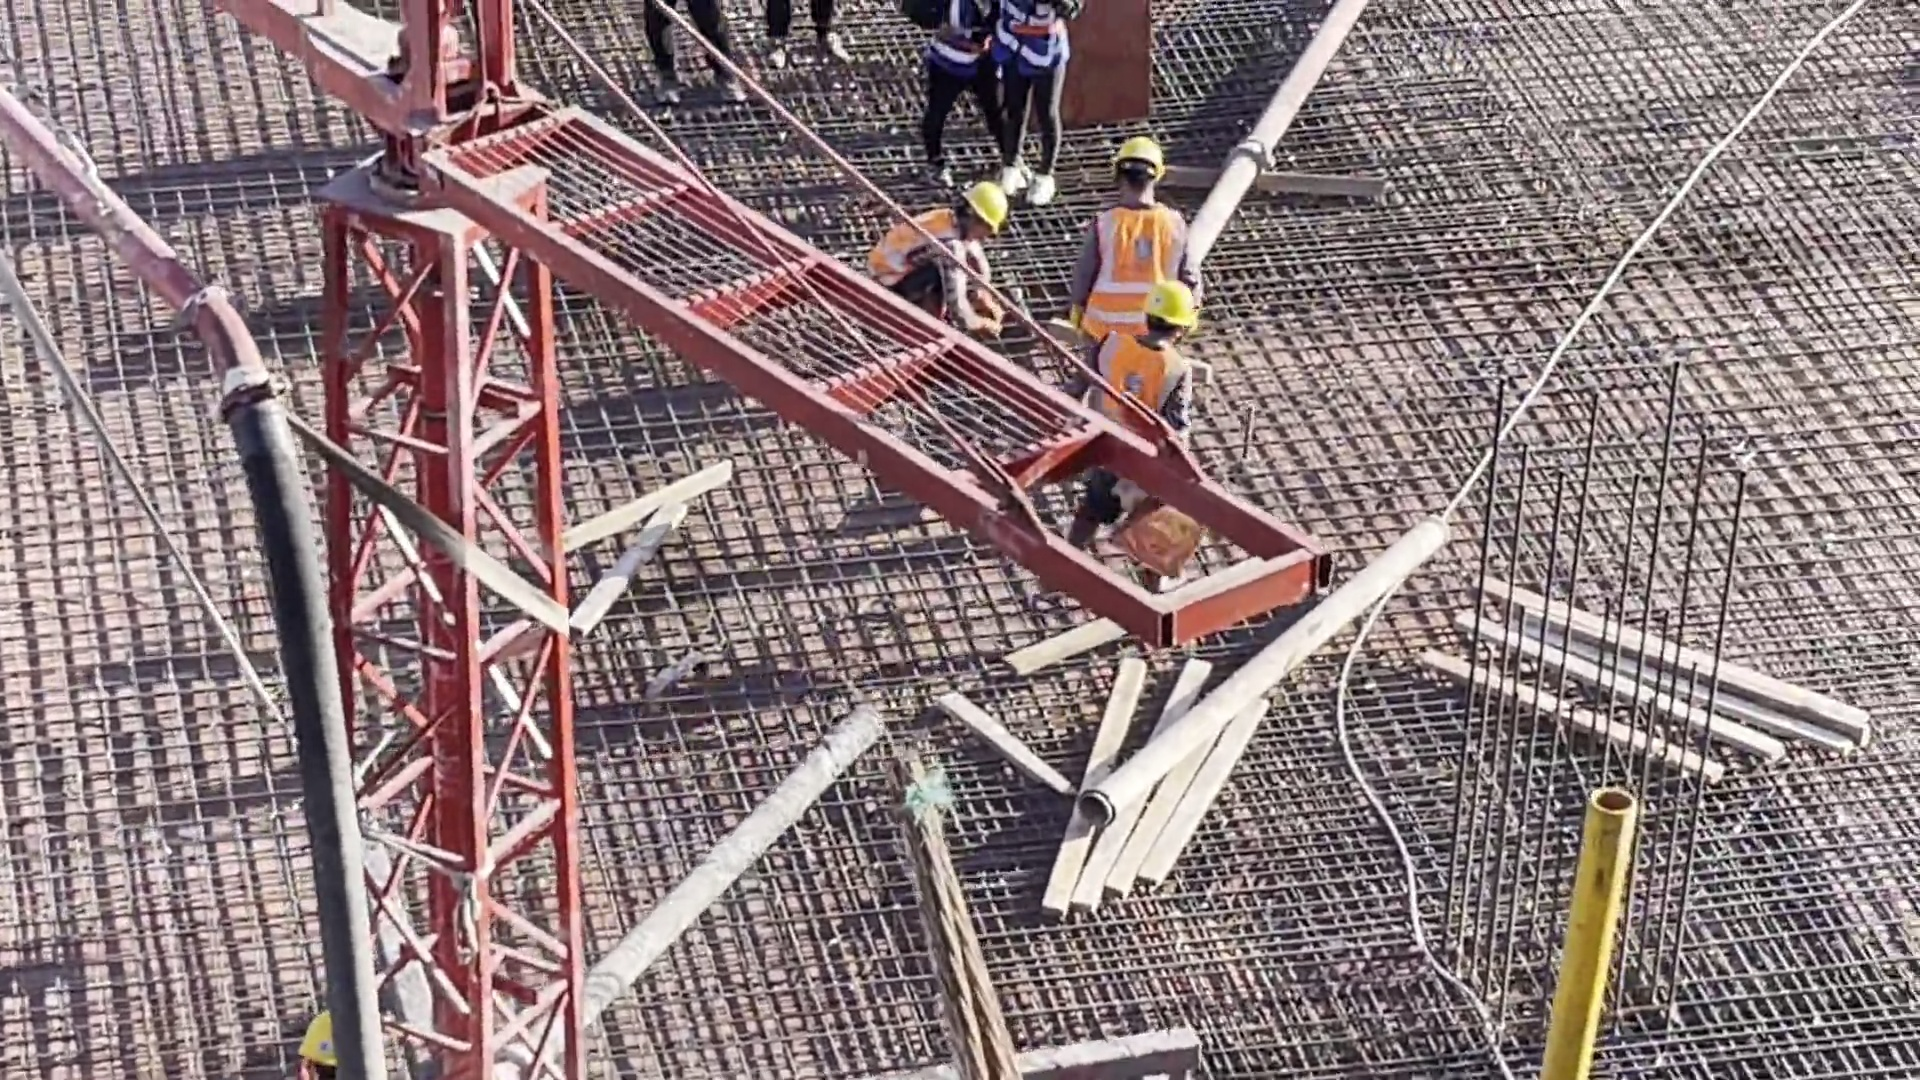helmet: (1151, 284, 1200, 348), (967, 183, 1011, 235), (292, 1019, 340, 1065), (1121, 137, 1169, 180)
person: (1066, 279, 1208, 558), (1056, 145, 1192, 387), (849, 171, 1021, 349), (901, 1, 1000, 185), (994, 1, 1079, 212), (642, 1, 755, 112), (269, 1000, 375, 1080), (766, 1, 877, 78)
vest: (1088, 208, 1182, 329), (1101, 330, 1184, 444), (867, 208, 967, 290), (924, 1, 973, 73), (1007, 2, 1063, 58)
